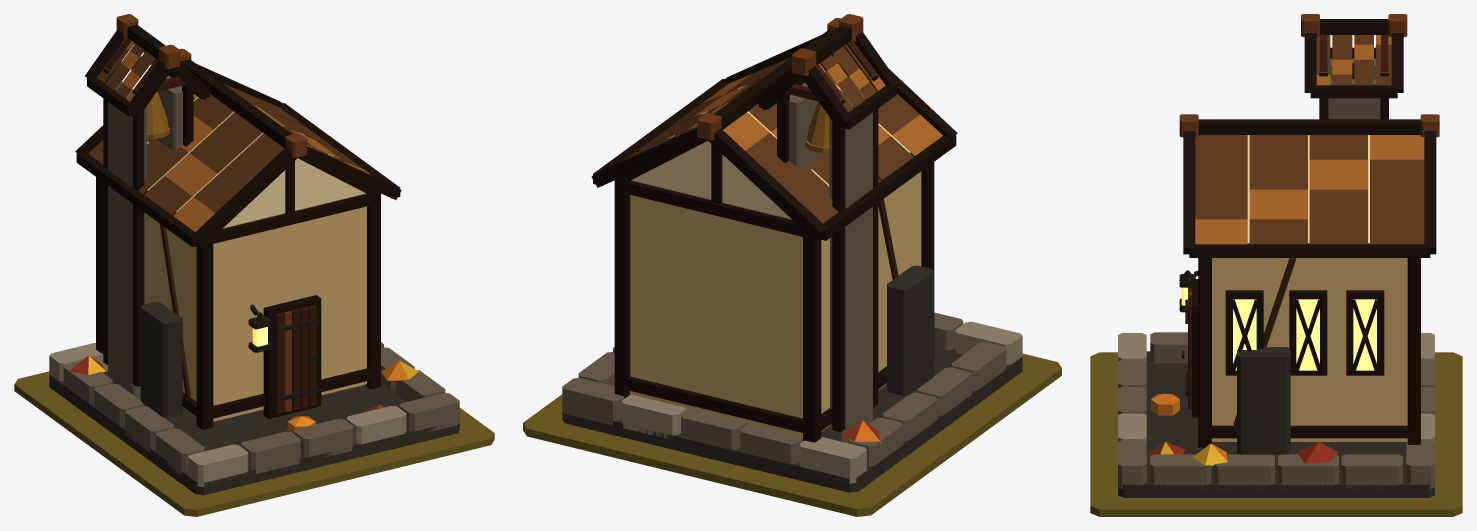
File: chapel_t5.glb
The picture shows the model from 3 angles, left to right: view 1: azimuth 30°, elevation 25°; view 2: azimuth 150°, elevation 25°; view 3: azimuth 270°, elevation 25°; orthographic projection. The views are drawn at different scales.
Parts seen in each view (by area): view 1: MMR | chapel | T05 Architecture.001, MMR | chapel | Tier 05 Ground.001, MMR | chapel | T05 Autumn Dressing.001; view 2: MMR | chapel | T05 Architecture.001, MMR | chapel | Tier 05 Ground.001; view 3: MMR | chapel | T05 Architecture.001, MMR | chapel | Tier 05 Ground.001, MMR | chapel | T05 Autumn Dressing.001.
Boxes of the visible parts, x1=… form: MMR | chapel | T05 Architecture.001: x1=49, y1=14, x2=459, y2=495; MMR | chapel | Tier 05 Ground.001: x1=14, y1=371, x2=494, y2=516; MMR | chapel | T05 Autumn Dressing.001: x1=68, y1=355, x2=418, y2=433; MMR | chapel | T05 Architecture.001: x1=562, y1=14, x2=1022, y2=492; MMR | chapel | Tier 05 Ground.001: x1=523, y1=353, x2=1061, y2=516; MMR | chapel | T05 Architecture.001: x1=1118, y1=14, x2=1439, y2=497; MMR | chapel | Tier 05 Ground.001: x1=1090, y1=352, x2=1462, y2=516; MMR | chapel | T05 Autumn Dressing.001: x1=1146, y1=393, x2=1338, y2=465.
Bounding box in the file's own units: 2.35 × 2.68 × 2.35.
2 materials, 1 textured.
